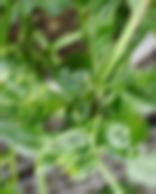Tomato leaf mosaic virus: (0, 0, 58, 129), (105, 64, 156, 113), (78, 0, 123, 53)
